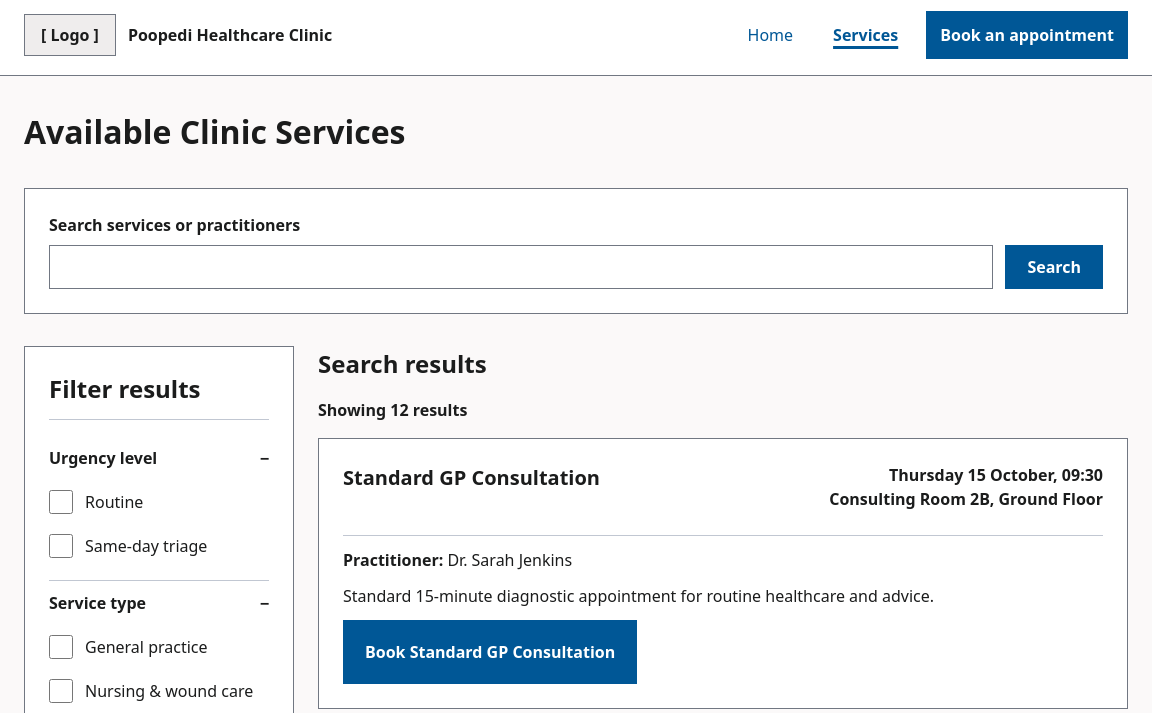
Scenario: ServicesPage › filters by a checkbox only after "Apply filters" and updates the status text
The image size is (1152, 713).
Click the checkbox labelled "Same-day triage". click: (61, 546)
box: [49, 534, 73, 558]
(page scrolled)
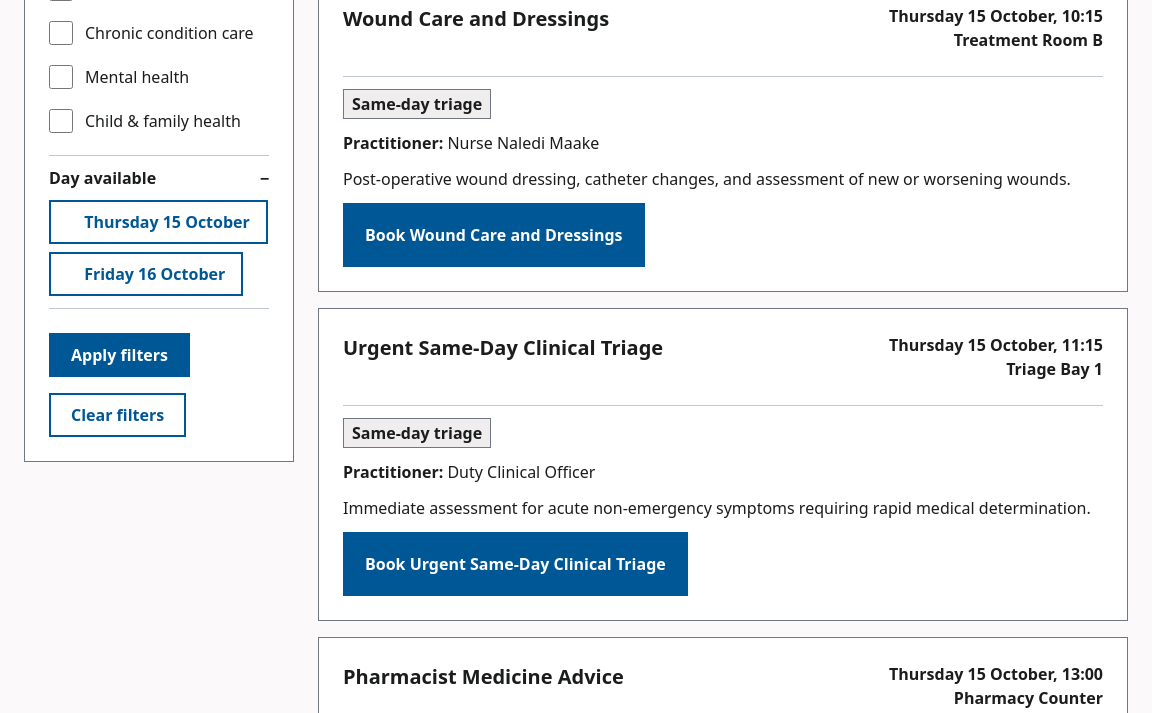
Click the button "Apply filters". click: (120, 355)
box: [49, 333, 190, 377]
(page scrolled)
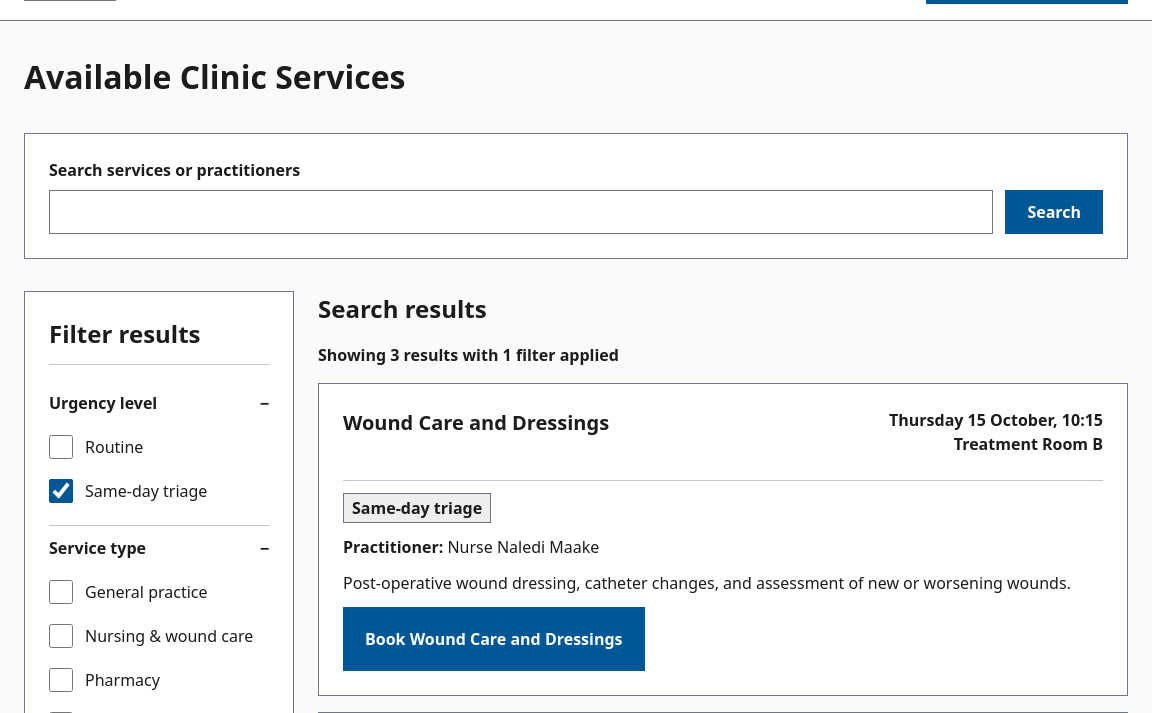
Expected: the text "Showing 3 results with 1 filter applied" is shown, [318, 344, 619, 366]
